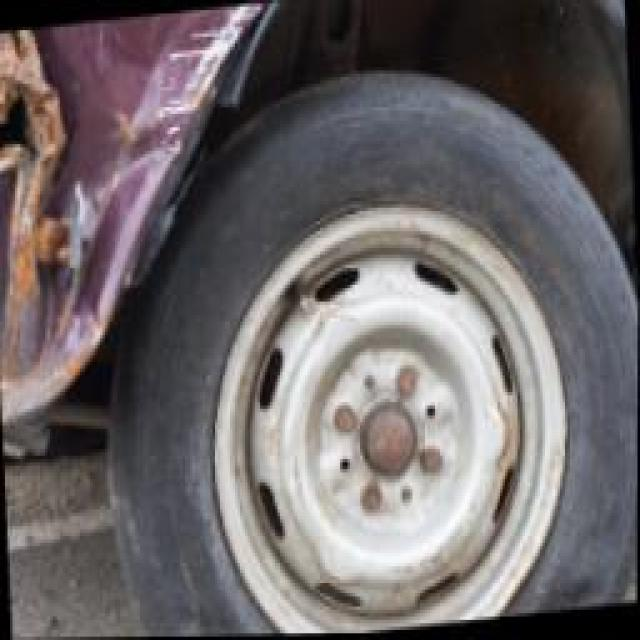Bumper: (0, 3, 267, 400)
